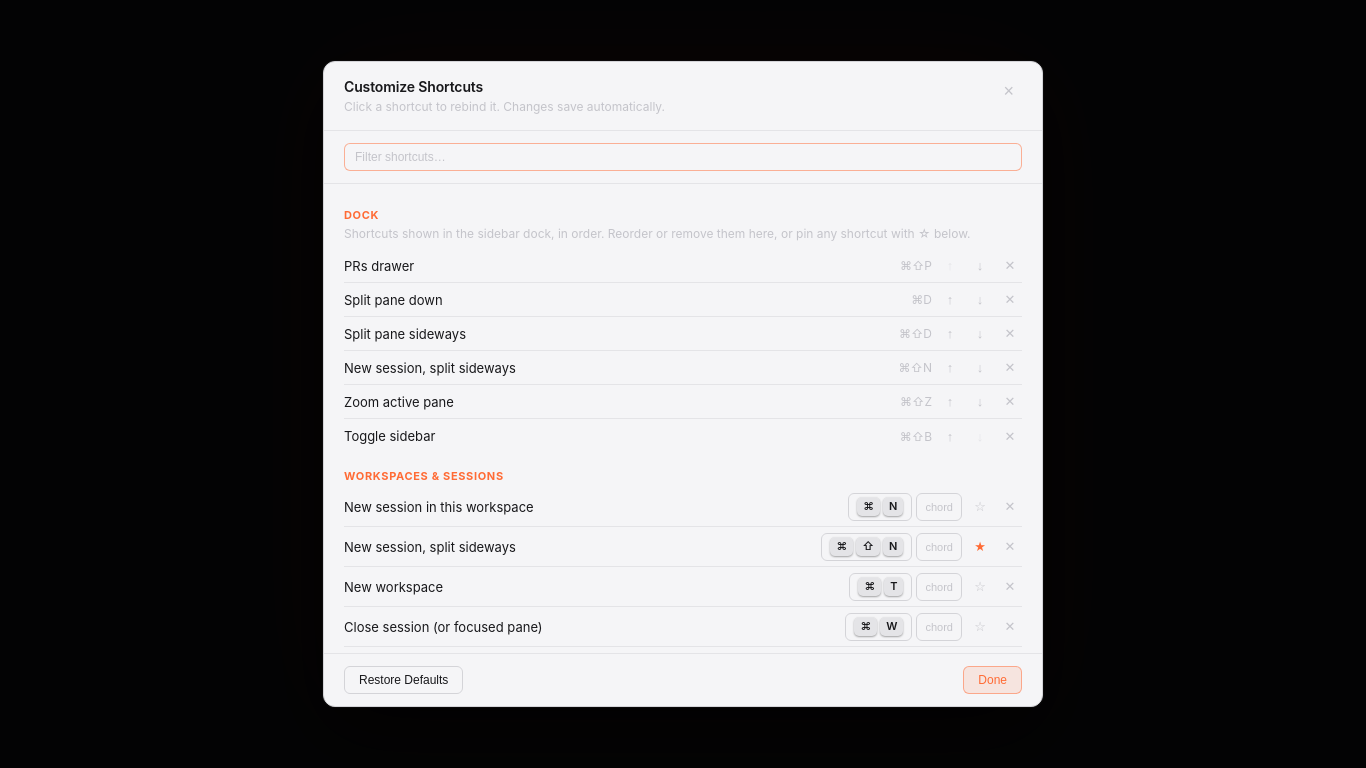
ShortcutEditorModal › filters rows to matching labels and hides the dock while searching
# "maximize" is unique to the panes category and not a default dock member.
Type "maximize" into the search field labelled "Filter shortcuts" at (683, 157), box [344, 143, 1022, 171]
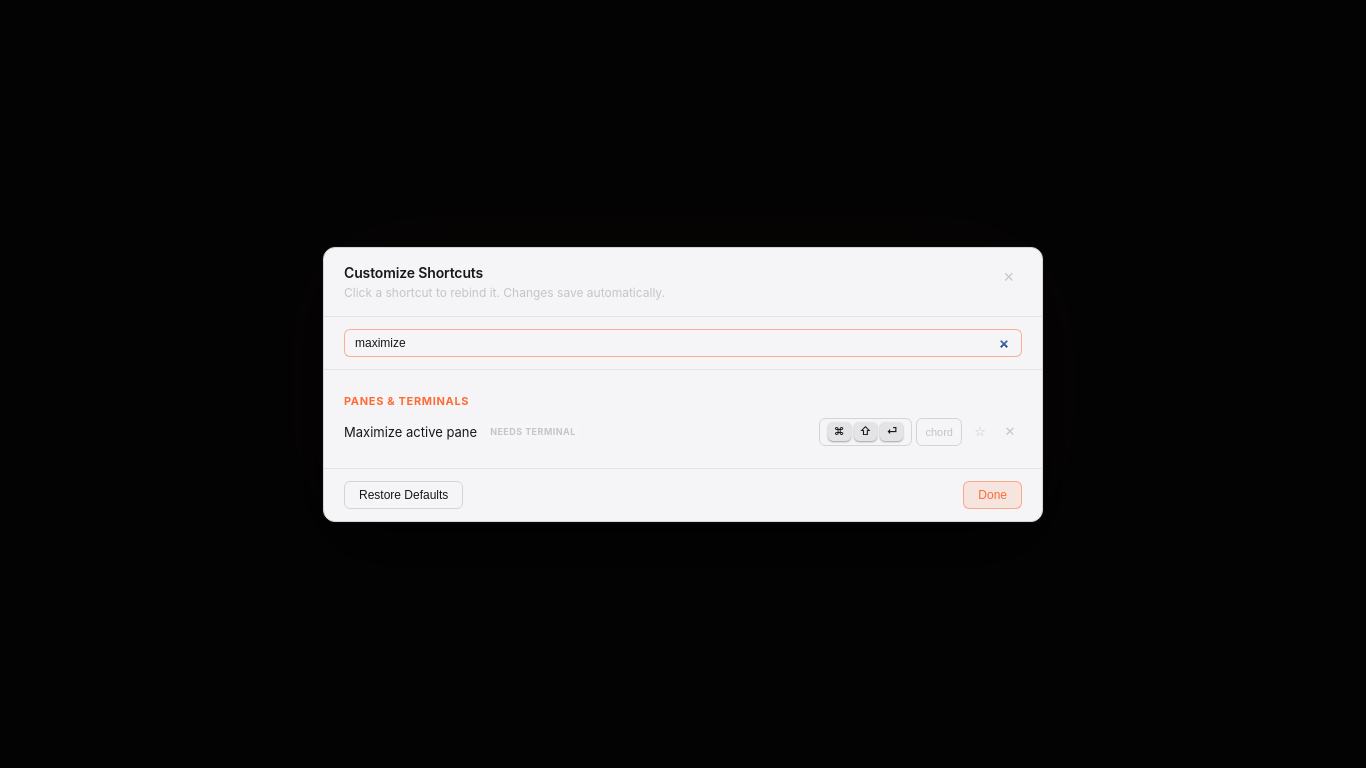
Expected: the text "Maximize active pane" is shown, [344, 424, 477, 440]
Expected: the text "New session in this workspace" is gone
Expected: the heading "Dock" is gone
